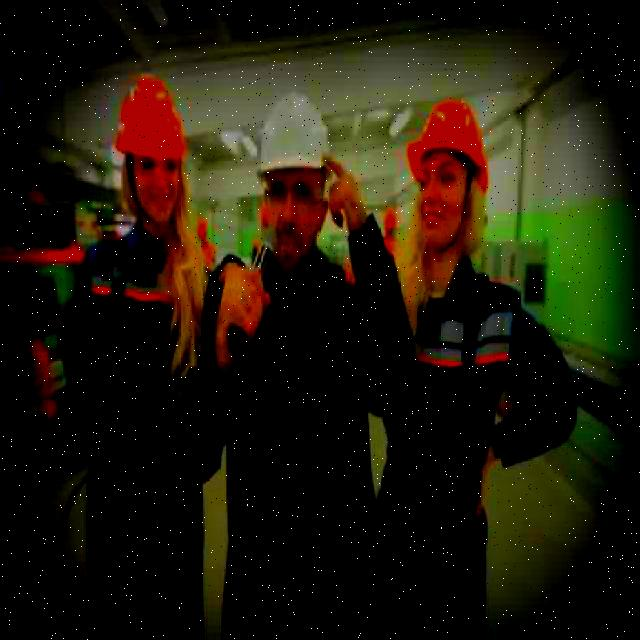Helmet: (406, 96, 488, 192), (254, 89, 332, 180), (116, 72, 186, 160)
Mask: (370, 240, 586, 638), (54, 218, 237, 638)
